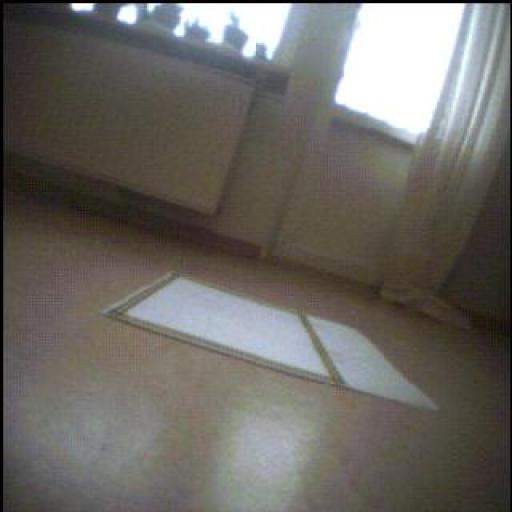Pad: (105, 275, 438, 411)
